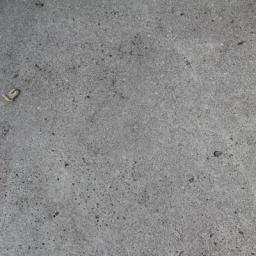FOD: (3, 83, 24, 106)
